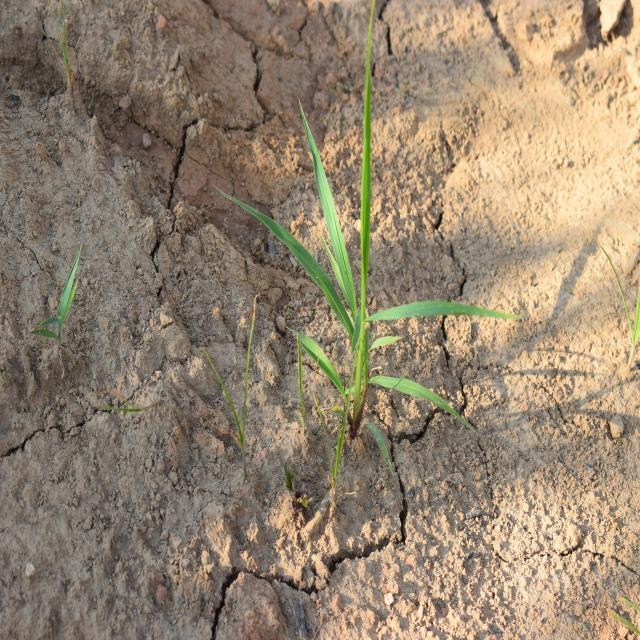green_foxtail: (272, 110, 469, 448)
